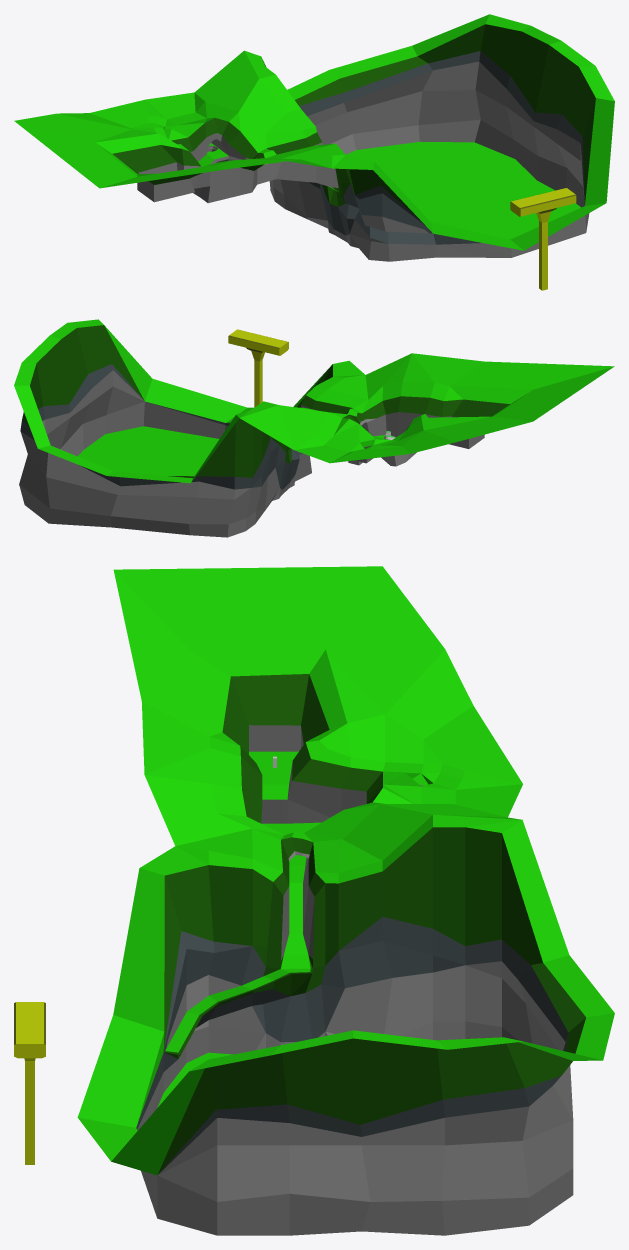
Rendered from TutorialArea_GB.fbx.
3 views of the same model, one above another, from view 1: azimuth 30°, elevation 25°; view 2: azimuth 150°, elevation 25°; view 3: azimuth 270°, elevation 25° (orthographic). The views are drawn at different scales.
Parts seen in each view (by area): view 1: Mesh_TutArea, Mesh_BridePiece; view 2: Mesh_TutArea, Mesh_BridePiece; view 3: Mesh_TutArea, Mesh_BridePiece.
Part boxes in pixels (x1,y1,x2,y2): Mesh_TutArea: [14, 14, 614, 261]; Mesh_BridePiece: [510, 188, 576, 290]; Mesh_TutArea: [14, 319, 614, 537]; Mesh_BridePiece: [228, 329, 288, 407]; Mesh_TutArea: [77, 566, 614, 1235]; Mesh_BridePiece: [14, 1002, 45, 1164].
Bounding box in the file's own units: 18702 × 6049 × 11554.
